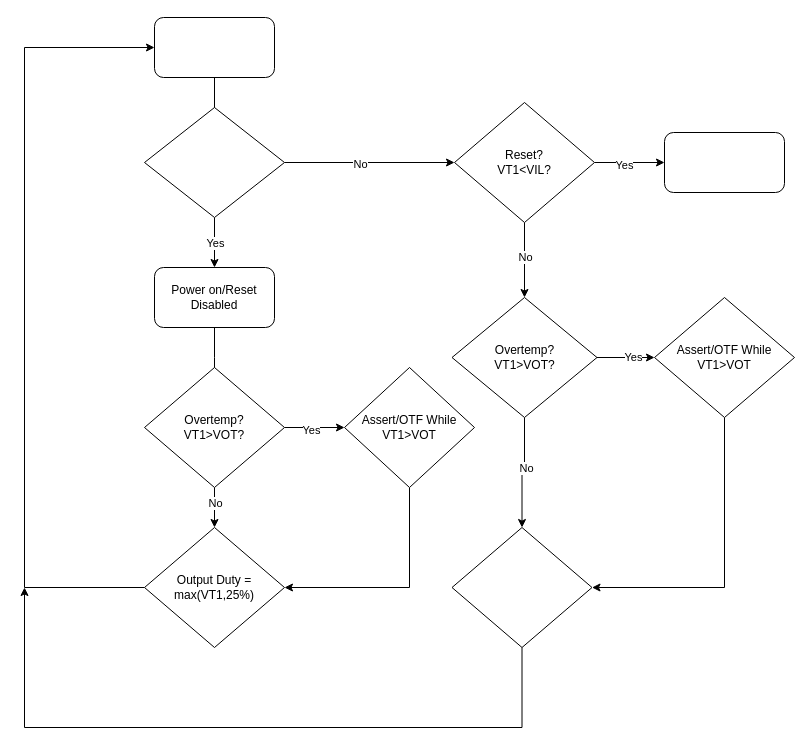
This 812x753 diagram has some shape labels left out. Each missing label, with the centre of its shape:
Minimum Fan-speed Clamp ON?: (214,162)
Normal Operation: (214,47)
Output Cycle Proportional to VT1: (521,587)
Power On: (724,162)
